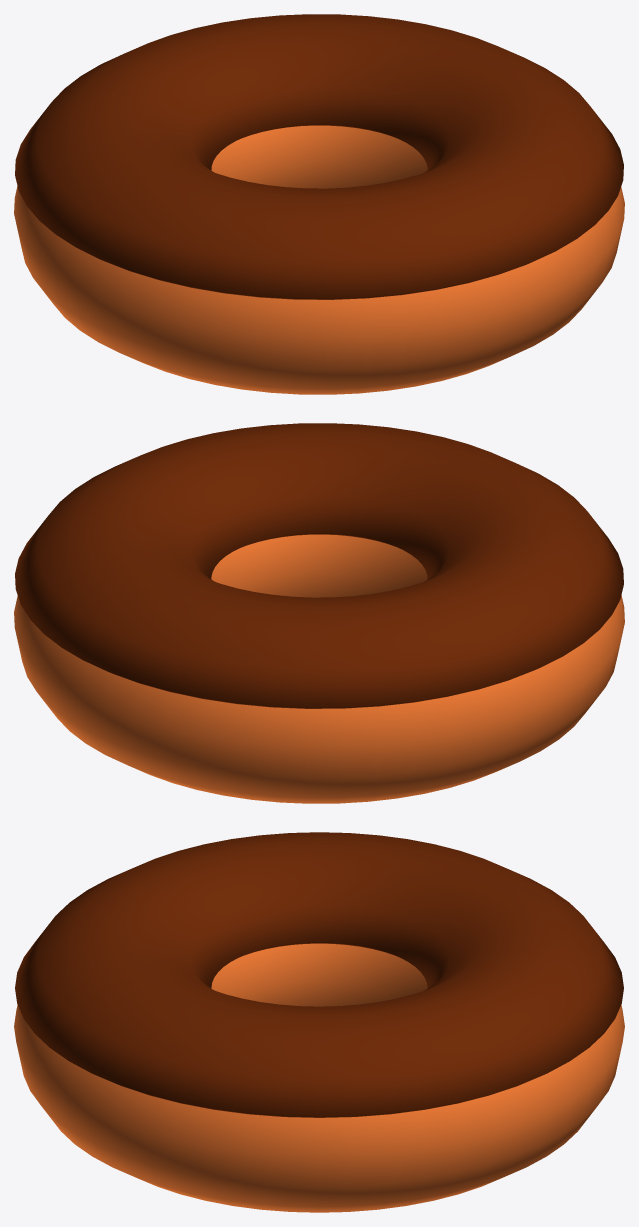
Rendered from Donut.gltf.
3 renders of one model, top to bottom at view 1: azimuth 30°, elevation 25°; view 2: azimuth 150°, elevation 25°; view 3: azimuth 270°, elevation 25°, orthographic.
Visible parts, largest first — view 1: Torus.001, Torus; view 2: Torus.001, Torus; view 3: Torus.001, Torus.
Boxes of the visible parts, left/top/right/bottom form: Torus.001: left=15, top=14, right=623, bottom=299; Torus: left=14, top=125, right=624, bottom=394; Torus.001: left=15, top=423, right=623, bottom=708; Torus: left=14, top=534, right=624, bottom=803; Torus.001: left=15, top=832, right=623, bottom=1117; Torus: left=14, top=943, right=624, bottom=1212.
Size of the model in its own units: 1.54 by 0.52 by 1.54.
